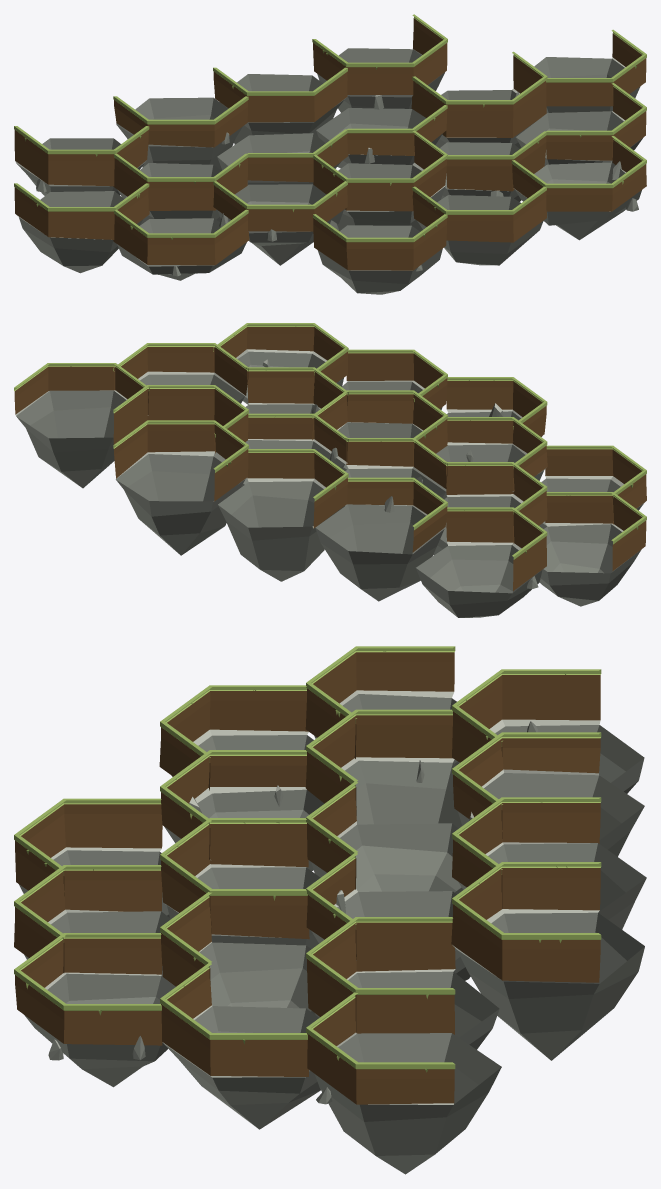
The model's file is island_socket_left.glb.
3 views of the same model, one above another, from view 1: azimuth 30°, elevation 25°; view 2: azimuth 150°, elevation 25°; view 3: azimuth 270°, elevation 25° (orthographic). The views are drawn at different scales.
Parts seen in each view (by area): view 1: island_socket_left_mesh; view 2: island_socket_left_mesh; view 3: island_socket_left_mesh.
Part boxes in pixels (left/top/right/bottom): island_socket_left_mesh: left=14, top=14, right=646, bottom=294; island_socket_left_mesh: left=14, top=323, right=646, bottom=617; island_socket_left_mesh: left=14, top=646, right=646, bottom=1174.
Size of the model in its own units: 11.52 by 2.33 by 7.15.
